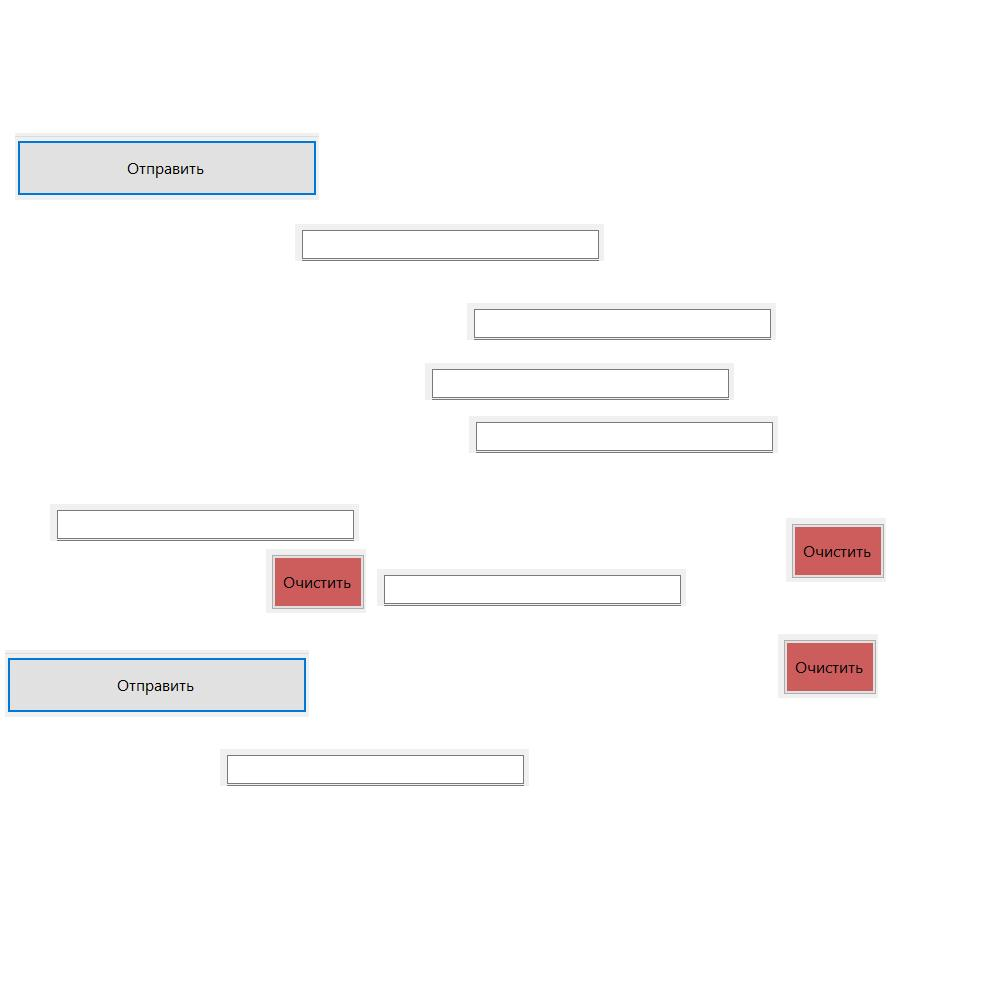Button: (5, 650, 309, 717), (15, 133, 319, 200), (266, 549, 366, 613), (786, 518, 886, 582), (778, 634, 878, 698)
EditText-: (377, 569, 686, 606), (220, 749, 529, 786), (425, 363, 734, 400), (467, 303, 776, 340), (50, 504, 359, 541), (295, 224, 604, 261), (469, 416, 778, 453)
